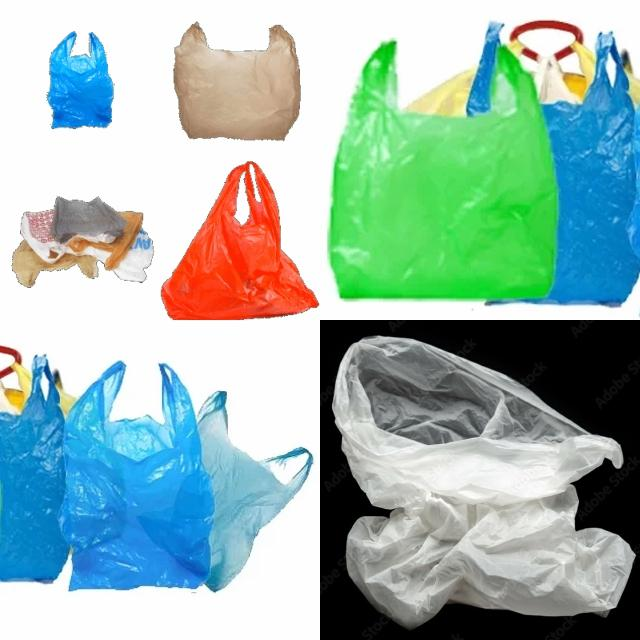Single-layer Plastic: (332, 338, 634, 628), (329, 42, 556, 299), (60, 362, 214, 589), (541, 32, 640, 304), (161, 161, 319, 319), (198, 391, 312, 591), (5, 187, 159, 304), (0, 356, 69, 581), (174, 22, 300, 139), (48, 31, 112, 129)
